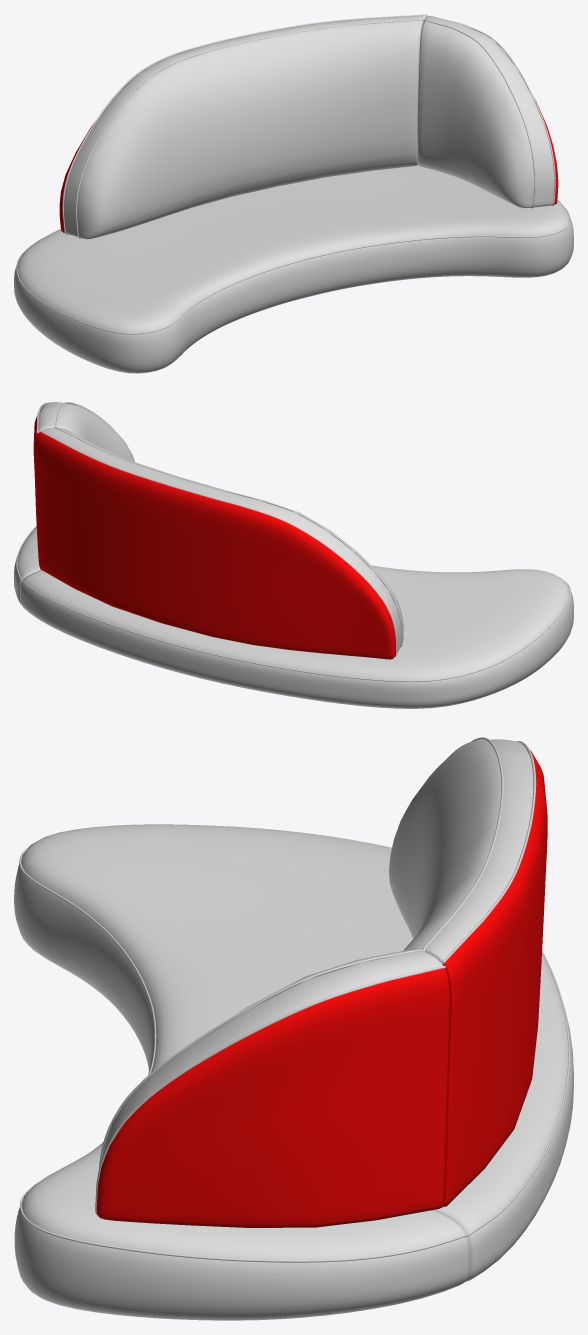
Rendered from levante_recamiere_mirror.gltf.
3 views of the same model, one above another, from view 1: azimuth 30°, elevation 25°; view 2: azimuth 150°, elevation 25°; view 3: azimuth 270°, elevation 25° (orthographic). The views are drawn at different scales.
Parts seen in each view (by area): view 1: recamiere001; view 2: recamiere001; view 3: recamiere001.
Boxes of the visible parts, <box> form: recamiere001: <box>14,14,573,373</box>; recamiere001: <box>14,402,573,708</box>; recamiere001: <box>14,737,573,1320</box>.
Size of the model in its own units: 1.86 by 0.652 by 1.01.
